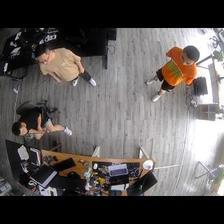normal: (143, 46, 200, 101), (35, 46, 97, 87), (10, 108, 71, 137)
